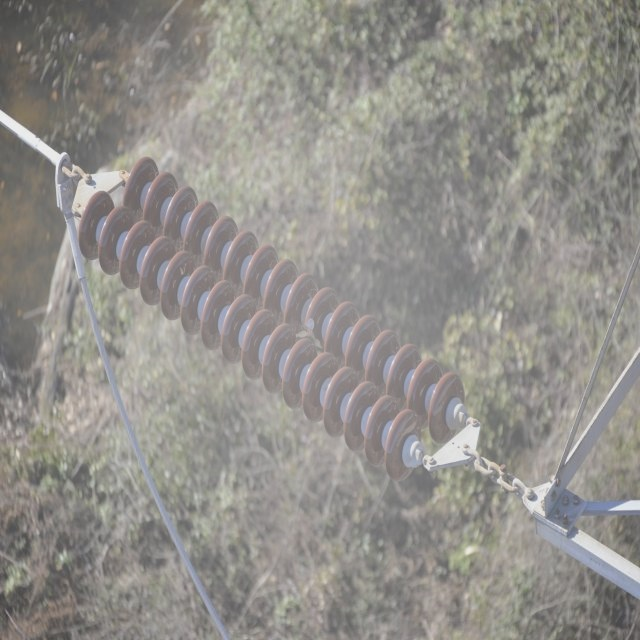broken: (302, 311, 323, 348)
insulator: (80, 156, 469, 482)
